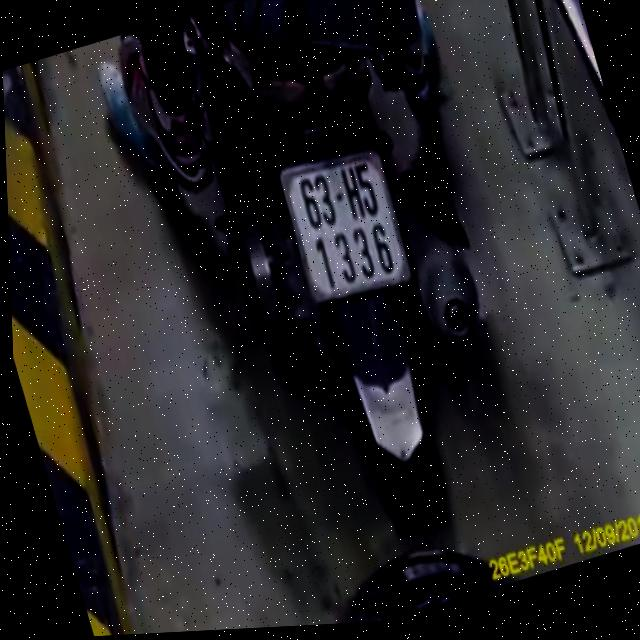motorcycle: (145, 0, 559, 560)
plate: (262, 133, 420, 317)
